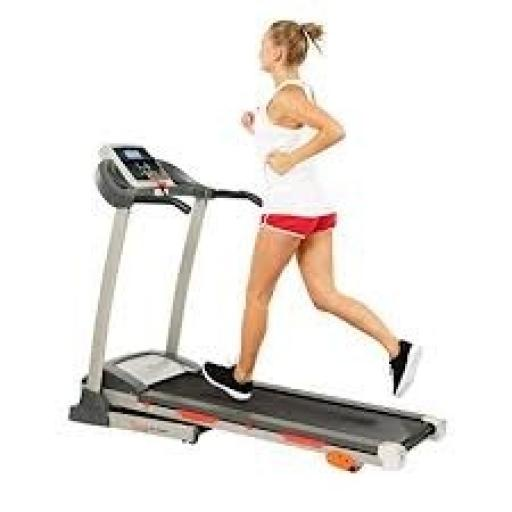running: (200, 16, 426, 405)
